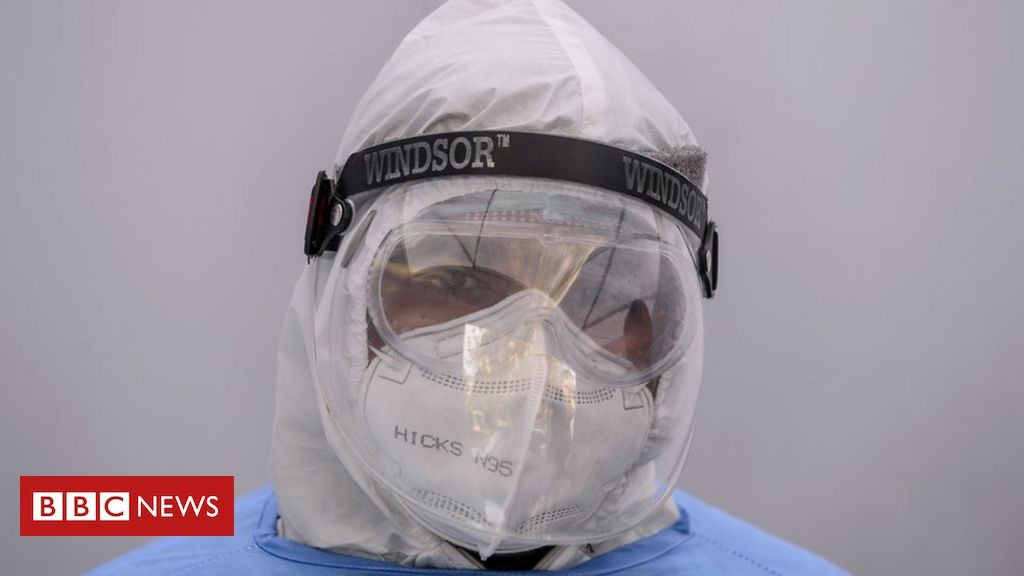Face_Shield: (298, 129, 724, 556)
Goggles: (361, 213, 696, 396)
with_mask: (374, 257, 667, 556)
